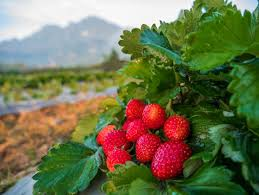ripe: (151, 139, 192, 179), (134, 134, 161, 163), (163, 112, 188, 142), (100, 129, 128, 155), (122, 114, 146, 142), (142, 102, 166, 128), (105, 148, 131, 171), (124, 98, 148, 117), (95, 124, 115, 143)
